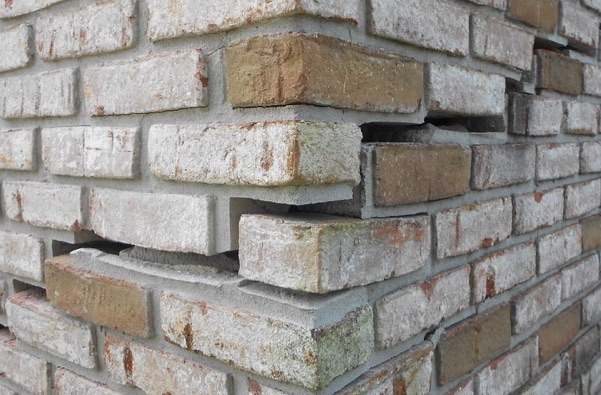stairstep_crack: (292, 30, 600, 225), (6, 190, 292, 327)
